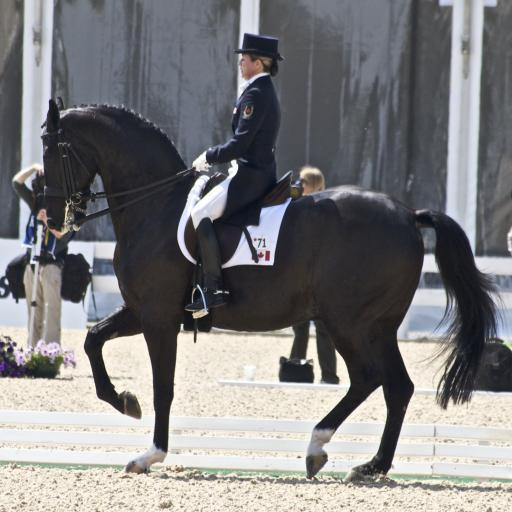horse: (42, 94, 512, 484)
